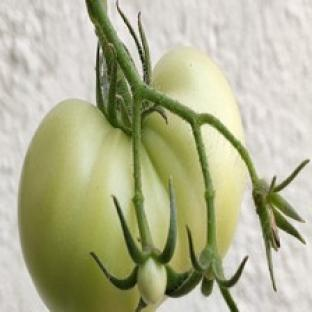Tomato: (19, 99, 144, 311)
